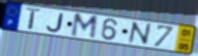6: (101, 18, 120, 41)
7: (154, 24, 177, 49)
J: (45, 12, 65, 33)
M: (69, 12, 100, 41)
N: (127, 21, 152, 47)
T: (25, 6, 44, 31)
